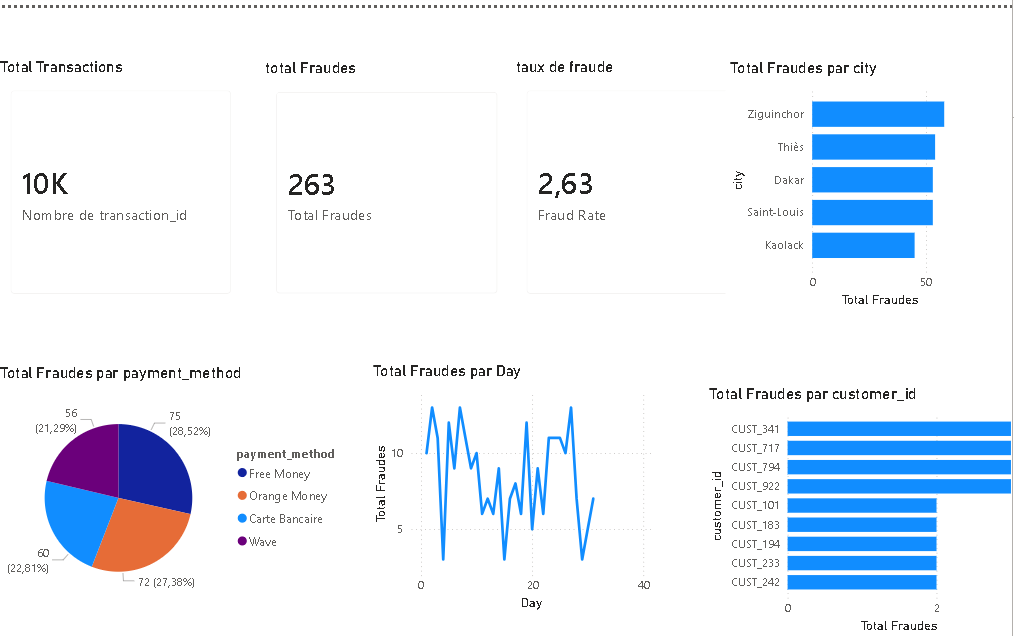

Layout of this report page (visuals, bound fields, positions):
{"tool":"powerbi","page":{"name":"Page 1","canvas":[1280,720],"ordinal":0},"visuals":[{"type":"cardVisual","title":"Total Transactions","fields":{"Data":["CountNonNull(transactions.transaction_id)"]},"box":[81.3,79.4,279.7,279.7],"z":0},{"type":"cardVisual","title":"total Fraudes","fields":{"Data":["transactions.Total Fraudes"]},"box":[438.4,79.4,279.7,279.7],"z":1000},{"type":"cardVisual","title":"taux de fraude","fields":{"Data":["transactions.Fraud Rate"]},"box":[731.3,56.7,279.7,279.7],"z":2000},{"type":"clusteredBarChart","fields":{"Category":["transactions.city"],"Y":["transactions.Total Fraudes"]},"box":[1021,57,259,280],"z":2001},{"type":"pieChart","fields":{"Category":["transactions.payment_method"],"Y":["transactions.Total Fraudes"]},"box":[22.7,359.1,395,279.7],"z":2002},{"type":"lineChart","fields":{"Category":["transactions.transaction_datetime.Variation.Date Hierarchy.Day"],"Y":["transactions.Total Fraudes"]},"box":[438.4,359.1,319.4,279.7],"z":2003},{"type":"barChart","fields":{"Y":["transactions.Total Fraudes"],"Category":["transactions.customer_id"]},"box":[831.5,374.2,357.2,279.7],"z":2004}]}

Visuals, with their boxes on the page's 1280x720 design canvas (x1, y1, x2, y2). These are canvas units, not pixel positions in the 1014x636 screenshot, which may show the page scaled, cropped or inside an application window:
"Total Transactions" cardVisual: (81, 79, 361, 359)
"total Fraudes" cardVisual: (438, 79, 718, 359)
"taux de fraude" cardVisual: (731, 57, 1011, 336)
clusteredBarChart - transactions.city x transactions.Total Fraudes: (1021, 57, 1280, 337)
pieChart - transactions.payment_method x transactions.Total Fraudes: (23, 359, 418, 639)
lineChart - transactions.transaction_datetime.Variation.Date Hierarchy.Day x transactions.Total Fraudes: (438, 359, 758, 639)
barChart - transactions.Total Fraudes x transactions.customer_id: (832, 374, 1189, 654)
